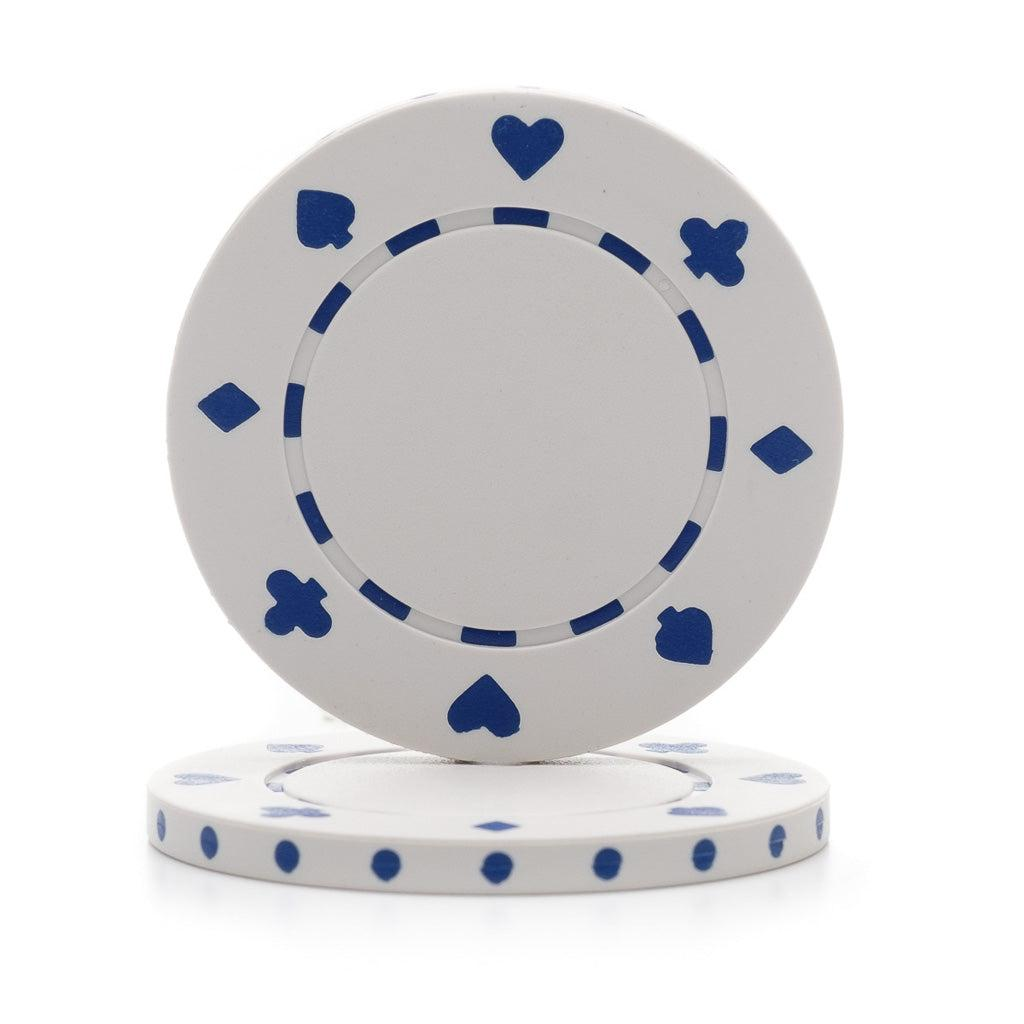chip-white: (168, 90, 842, 763), (148, 732, 828, 894)
